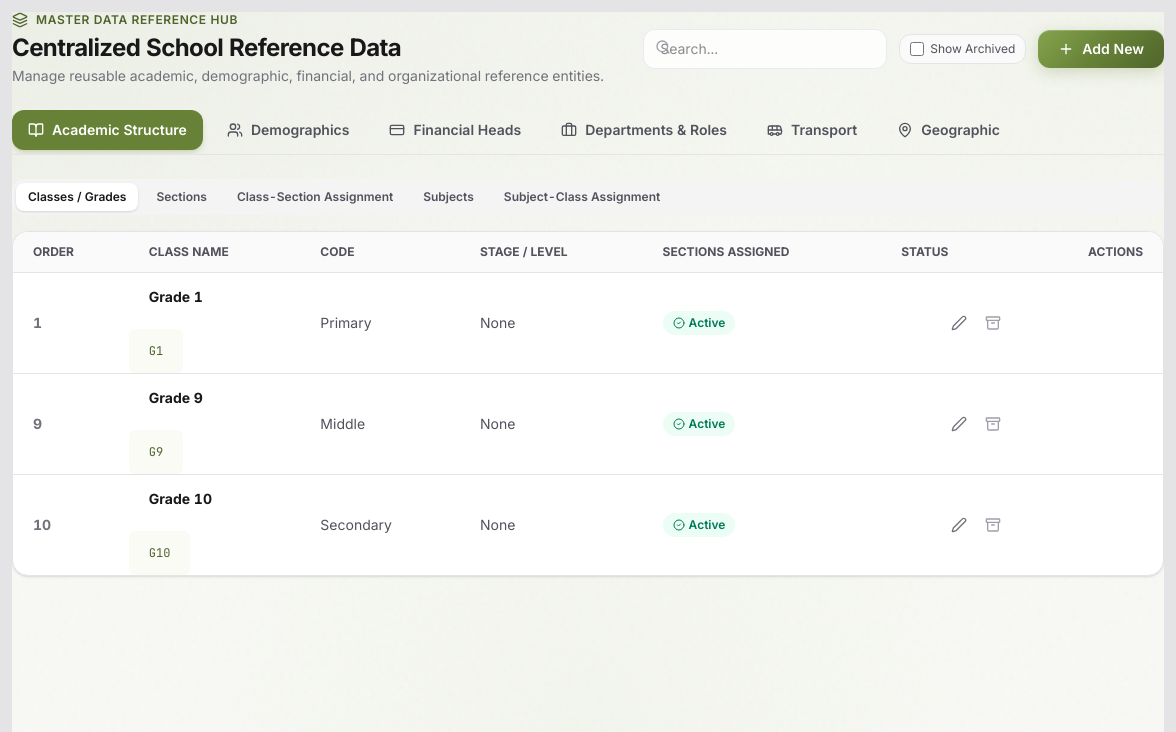
it: MasterData Search and Filtering Unit Tests › filters geographic tab entities (countries, states, cities) when active
Switch to Geographic tab
Click the button "Geographic" at (949, 130), box [881,110,1016,150]
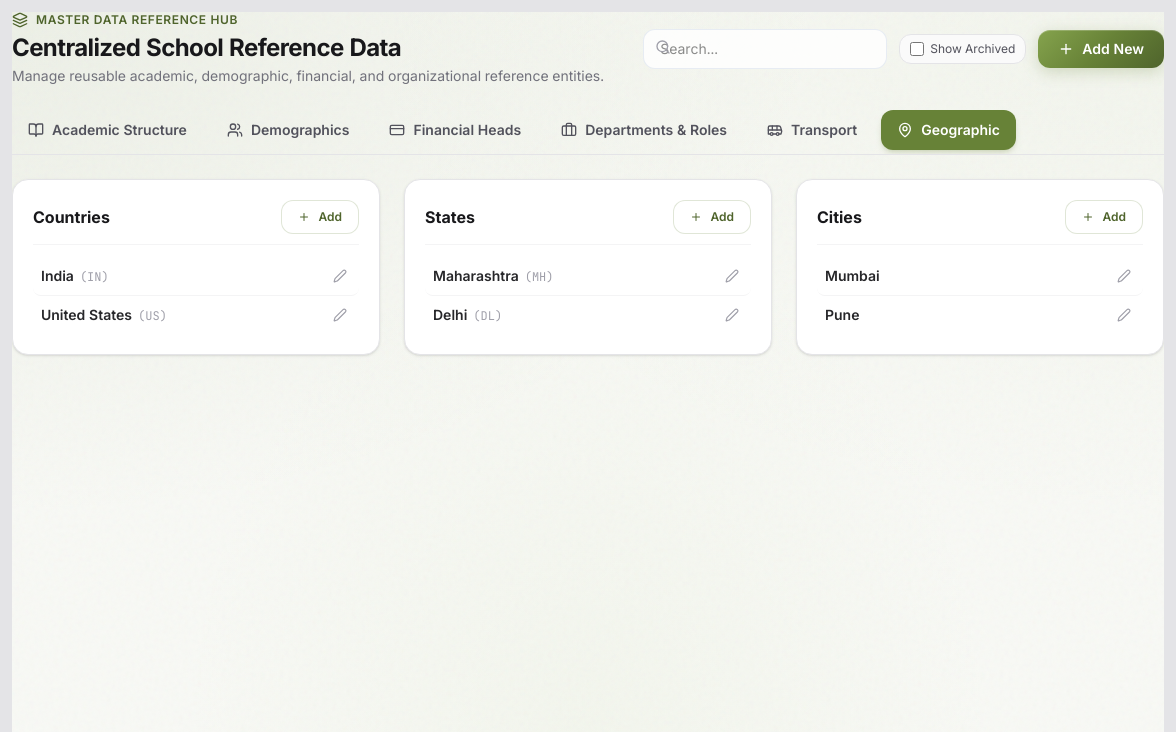
Now the text "India" is shown, box [41,267,74,284]
Now the text "United States" is shown, box [41,306,132,323]
Filter by ISO code
Type "US" into the field with placeholder "Search..." at (765, 49), box [643,29,887,69]
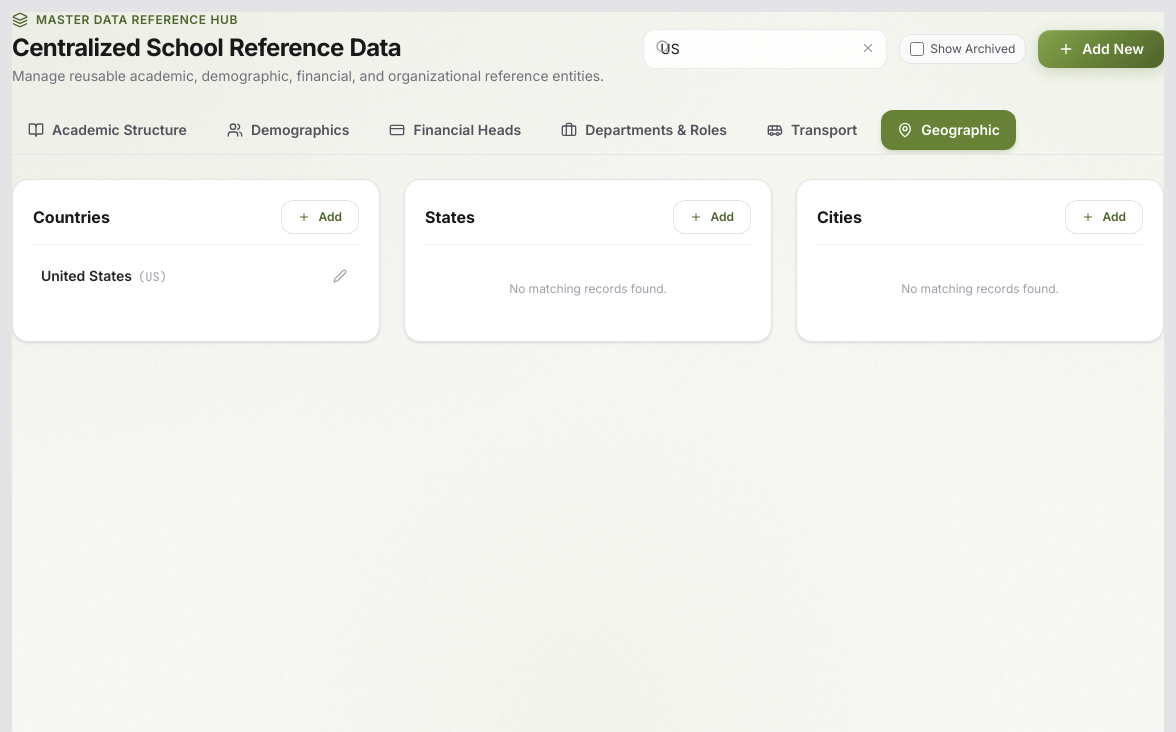
Now the text "United States" is shown, box [41,267,132,284]
Now the text "India" is gone
